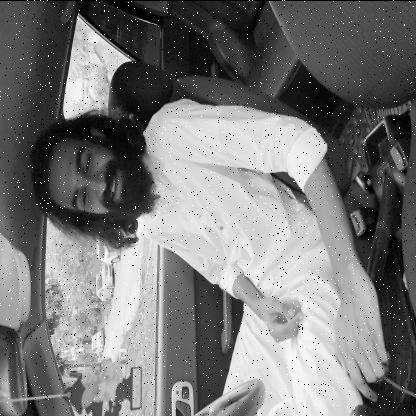no_seatbelt: (34, 127, 254, 263)
